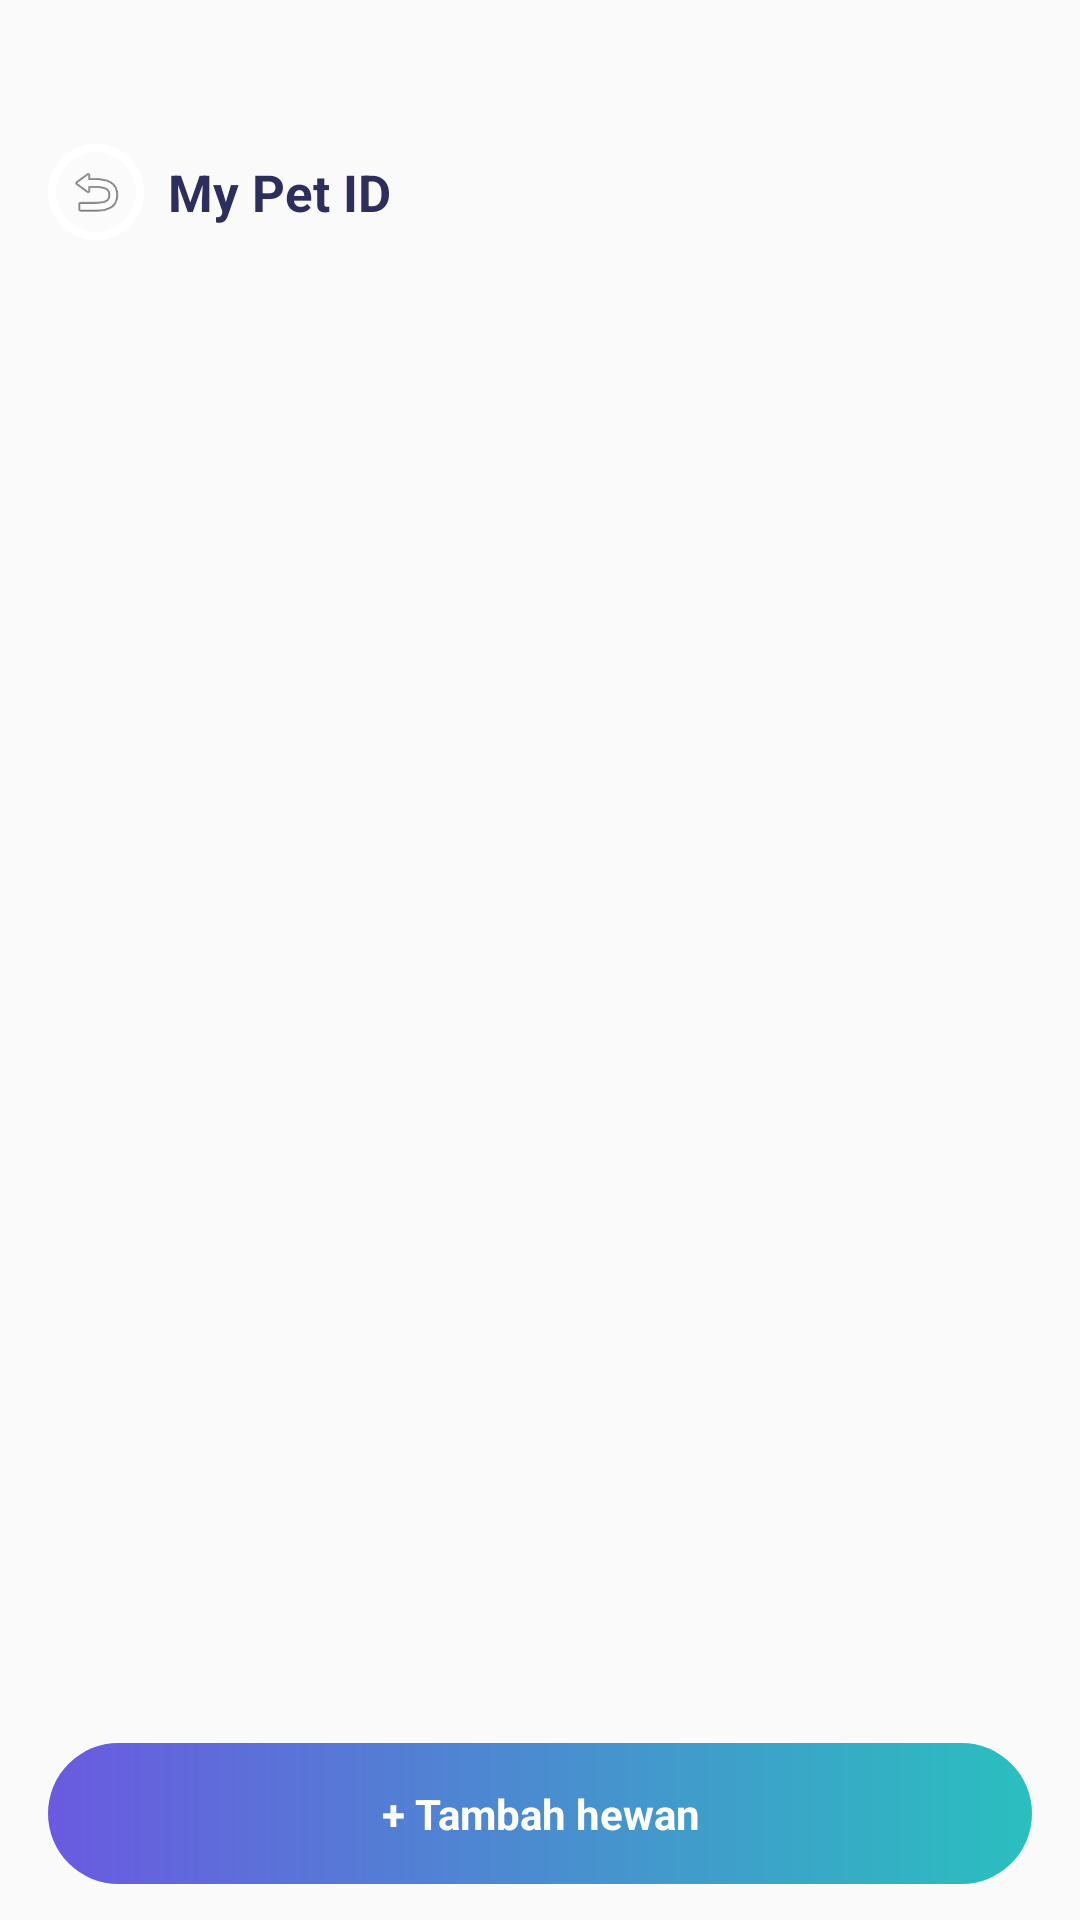

Icons on this 1080 × 1920 Android screen, each with its box as (x1, y1, x2, y2):
Kembali: (75, 173, 119, 212)
